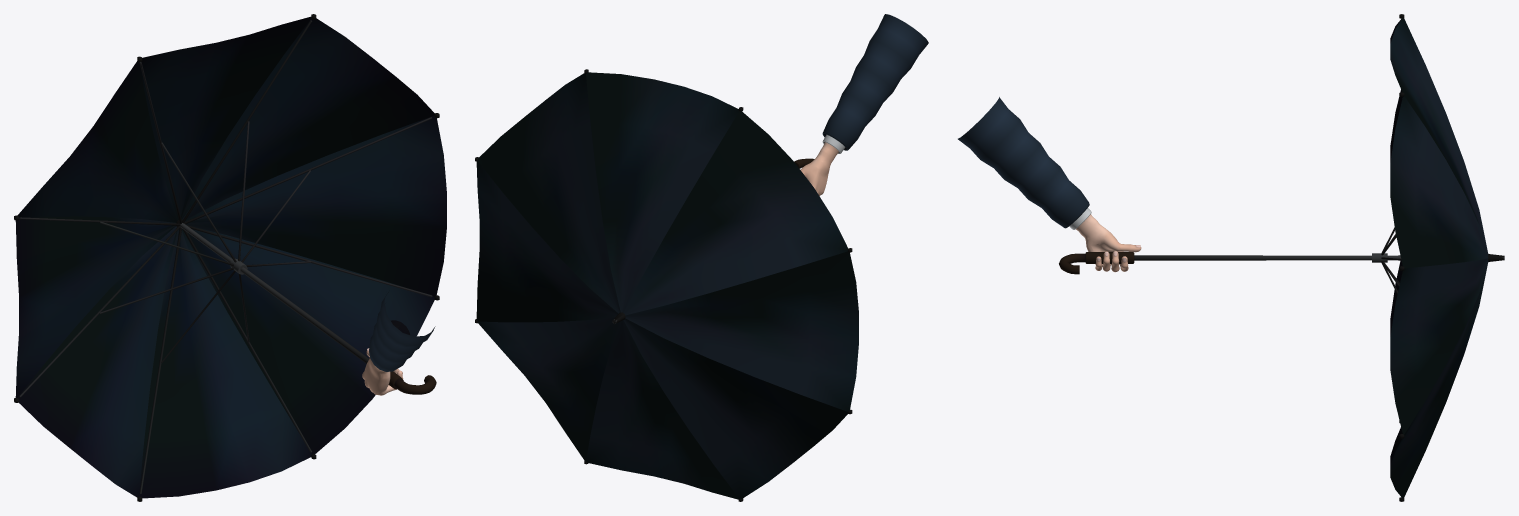
File: brolly_L.glb
3 views of the same model, side by side, from view 1: azimuth 30°, elevation 25°; view 2: azimuth 150°, elevation 25°; view 3: azimuth 270°, elevation 25° (orthographic). The views are drawn at different scales.
Visible parts, largest first — view 1: hand_brolly_L_m1, hand_brolly_L_m0; view 2: hand_brolly_L_m1, hand_brolly_L_m0; view 3: hand_brolly_L_m1, hand_brolly_L_m0.
Part boxes in pixels (box(x1,y1,x2,y2)): hand_brolly_L_m1: box(14, 14, 446, 501); hand_brolly_L_m0: box(362, 290, 435, 395); hand_brolly_L_m1: box(475, 69, 858, 501); hand_brolly_L_m0: box(800, 14, 928, 195); hand_brolly_L_m1: box(1059, 14, 1504, 501); hand_brolly_L_m0: box(958, 97, 1141, 272).
Bounding box in the file's own units: 1.17 × 1.17 × 1.4.
